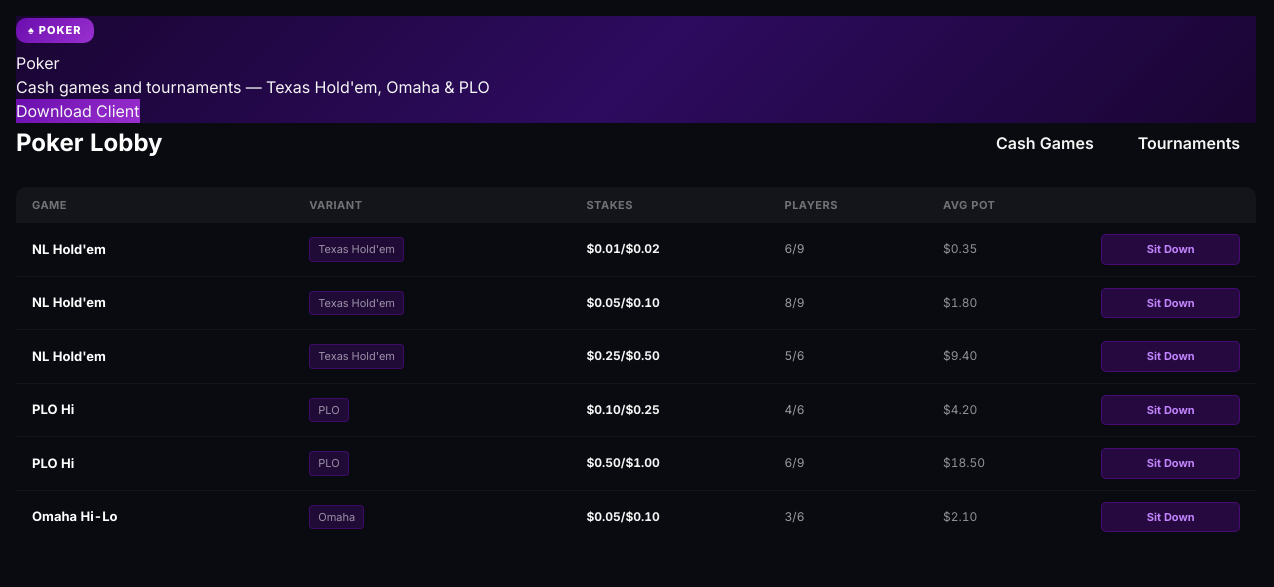
Poker Component › Toast Messages › shows toast when registering for tournament
The image size is (1274, 587).
Click the button "Tournaments": [1189, 142] box [1122,122,1256,162]
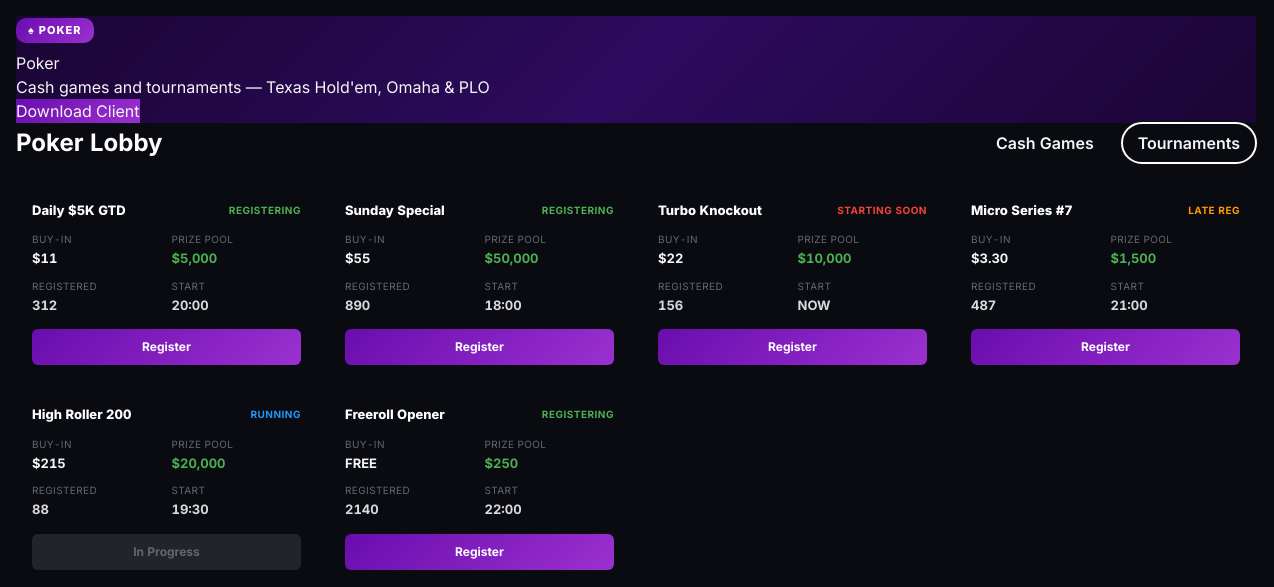
Click the button "Register" below "312": [166, 347] box [32,329,301,365]
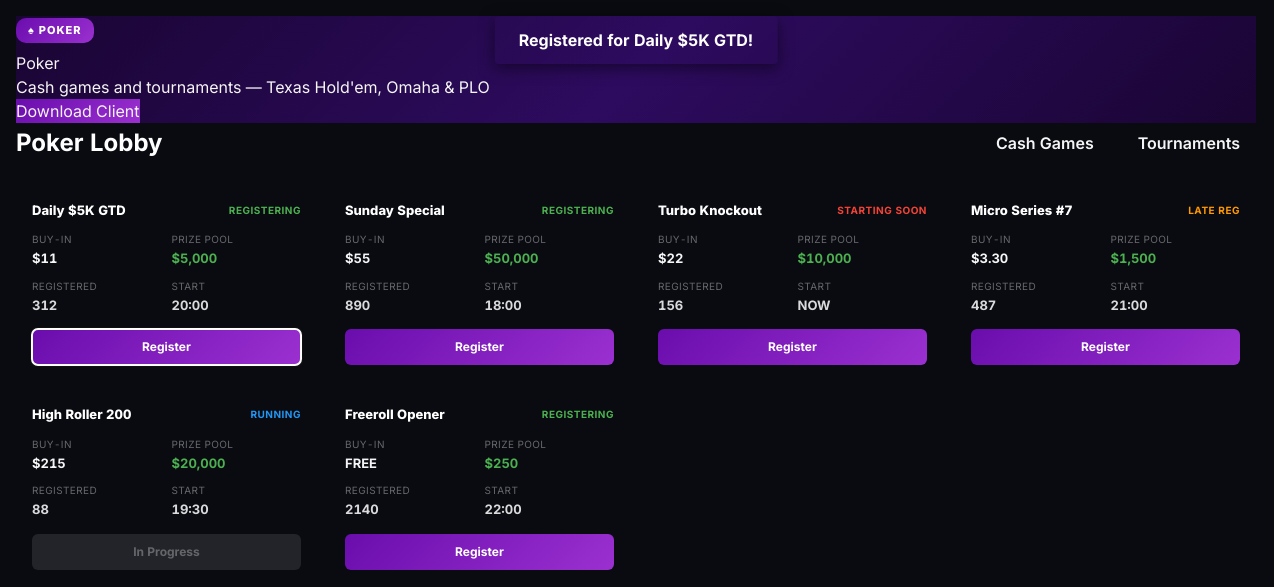
Result: the text "Registered for Daily $5K GTD!" is shown at [495,16,777,64]
